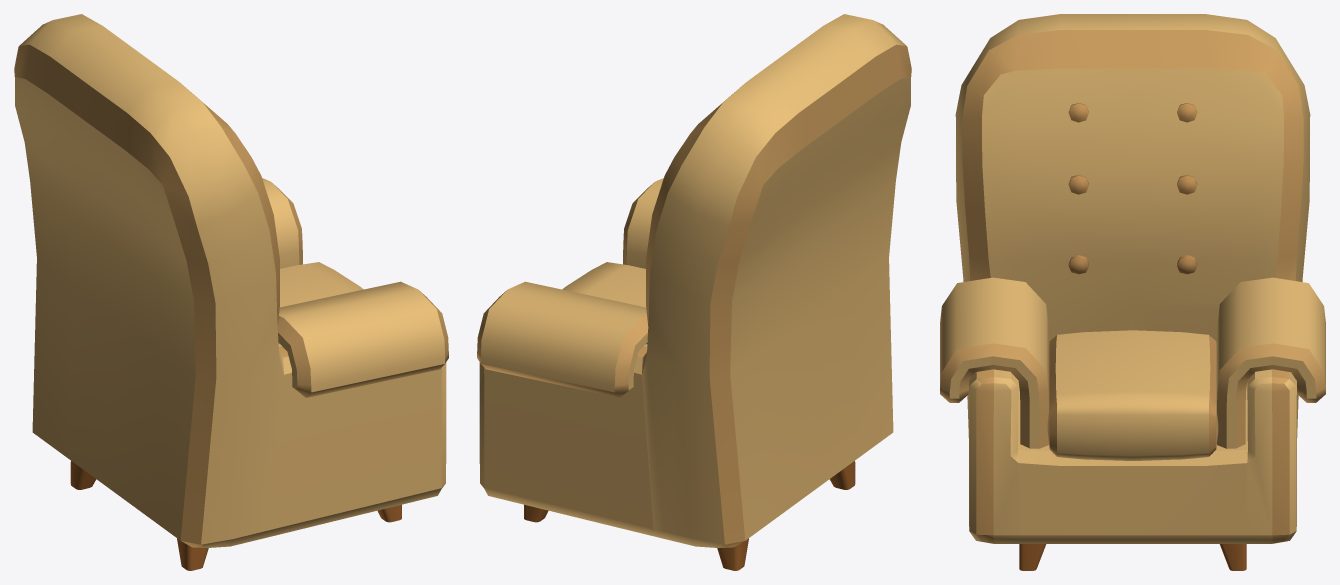
The model's file is Armchair_1_G.glb.
3 renders of one model, left to right at view 1: azimuth 30°, elevation 25°; view 2: azimuth 150°, elevation 25°; view 3: azimuth 270°, elevation 25°, orthographic. The views are drawn at different scales.
Parts seen in each view (by area): view 1: Armchair_1_G; view 2: Armchair_1_G; view 3: Armchair_1_G.
Boxes of the visible parts, bbox=[...] form: Armchair_1_G: bbox=[14, 14, 448, 570]; Armchair_1_G: bbox=[477, 14, 911, 570]; Armchair_1_G: bbox=[940, 14, 1325, 570].
Size of the model in its own units: 0.9247 by 1.49 by 1.16.
Materials: 1 (1 with a texture image).
